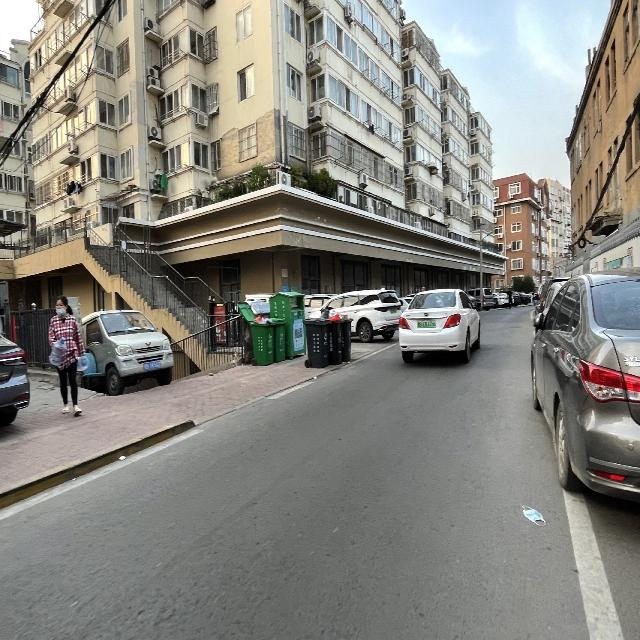garbage_bin: (302, 318, 331, 367), (271, 317, 285, 361)
overflow: (249, 314, 273, 365), (328, 313, 344, 364), (341, 312, 353, 361)
